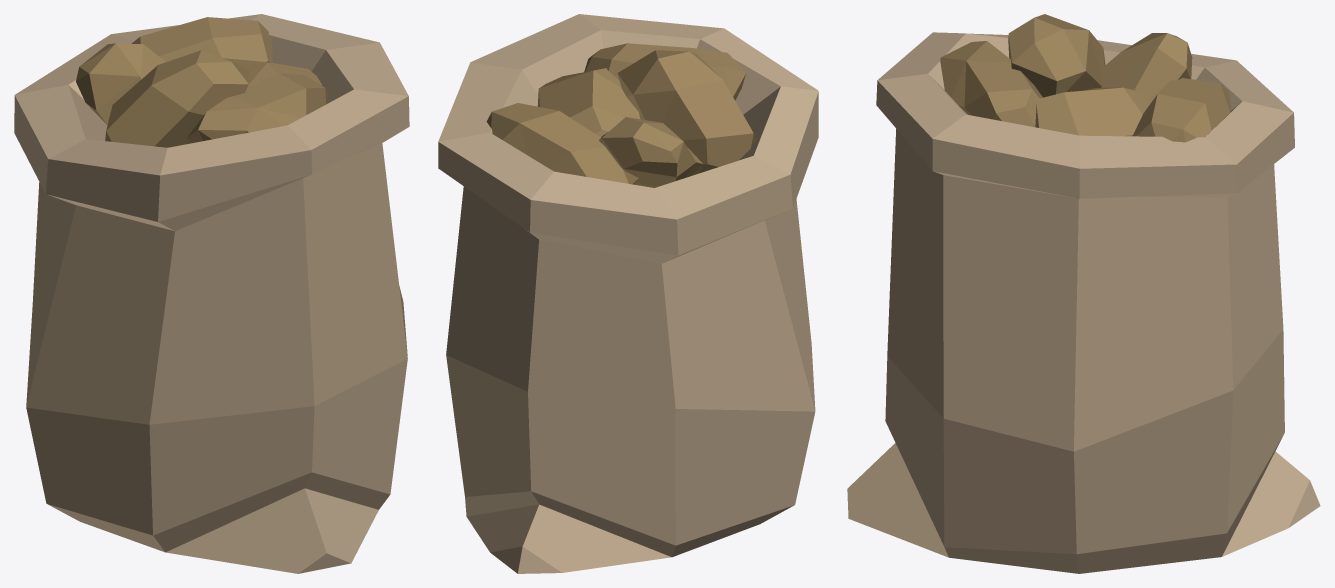
File: SM_Prop_Sack_05.fbx
The picture shows the model from 3 angles, left to right: view 1: azimuth 30°, elevation 25°; view 2: azimuth 150°, elevation 25°; view 3: azimuth 270°, elevation 25°; orthographic projection. The views are drawn at different scales.
Visible parts, largest first — view 1: SM_Prop_Sack_05; view 2: SM_Prop_Sack_05; view 3: SM_Prop_Sack_05.
Part boxes in pixels (x1,y1,x2,y2): SM_Prop_Sack_05: (14, 14, 409, 573); SM_Prop_Sack_05: (438, 14, 818, 573); SM_Prop_Sack_05: (847, 14, 1320, 573).
Bounding box in the file's own units: 46.08 × 52.78 × 48.31.
